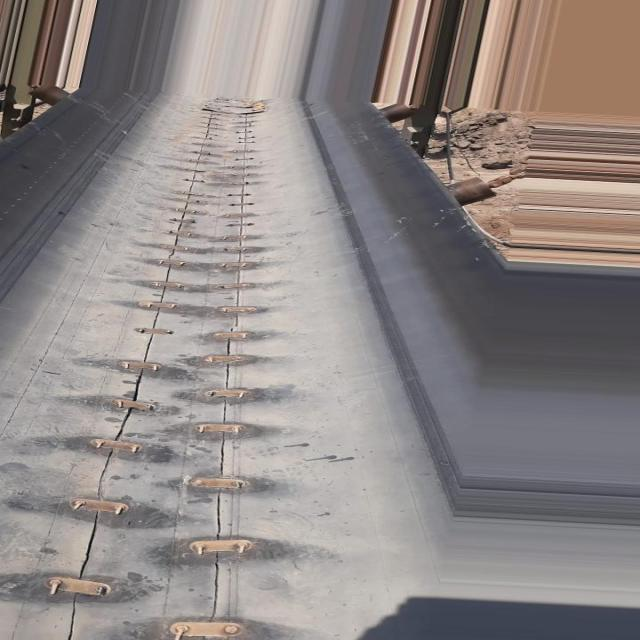Roller: (453, 178, 501, 206), (26, 82, 78, 106)
patch work: (0, 68, 307, 640)
